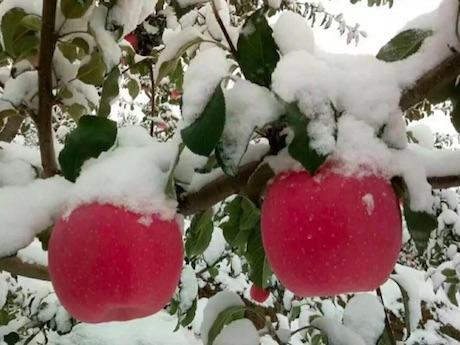apple: (259, 160, 399, 299), (42, 189, 184, 323)
